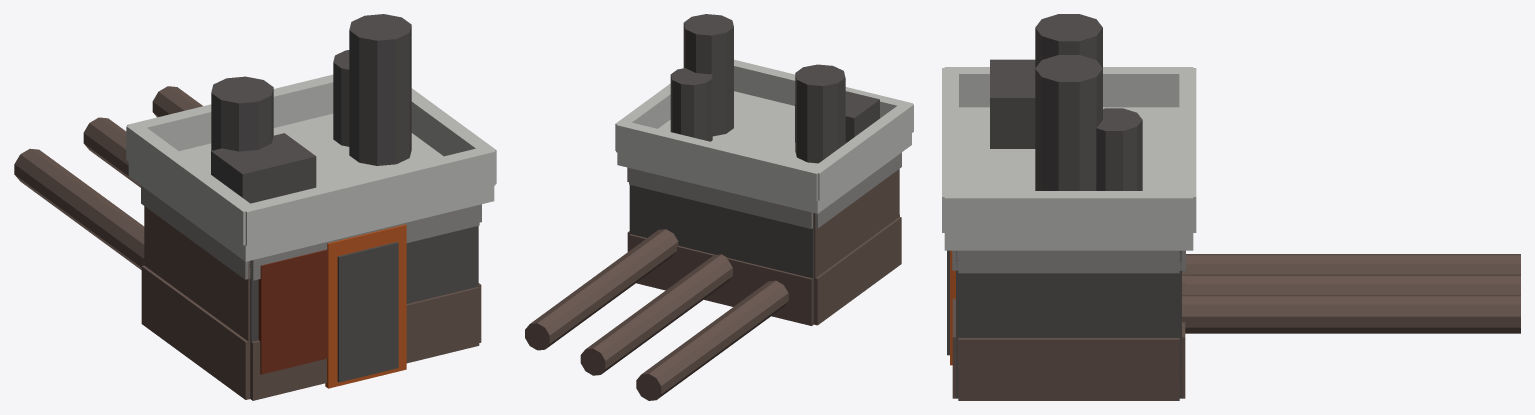
File: B_intake.glb
3 views of the same model, side by side, from view 1: azimuth 30°, elevation 25°; view 2: azimuth 150°, elevation 25°; view 3: azimuth 270°, elevation 25° (orthographic). The views are drawn at different scales.
Parts seen in each view (by area): view 1: Cube.018, Cube.017, Cylinder.003, Cube.016, Cube.012, Cube.001, Cube.006, Cube.007, Cylinder, Cube.020, Cube, Cube.022 (+9 smaller); view 2: Cube.003, Cube.017, Cube.019, Cylinder.002, Cylinder.001, Cylinder, Cube.004, Cylinder.004, Cube.007, Cube.006, Cylinder.003, Cube.020 (+6 smaller); view 3: Cube.009, Cube.010, Cylinder.002, Cube.017, Cube.021, Cylinder.003, Cylinder.001, Cylinder, Cube.011, Cube.020, Cube.022, Cylinder.005 (+4 smaller).
Boxes of the visible parts, x1,y1,x2,y2 form: Cube.018: (239,146,495,245); Cube.017: (128,113,494,261); Cylinder.003: (349,14,411,165); Cube.016: (337,242,398,382); Cube.012: (258,249,327,374); Cube.001: (250,287,479,400); Cube.006: (144,206,250,399); Cube.007: (141,265,249,399); Cylinder: (14,148,144,269); Cube.020: (126,123,249,245); Cube: (250,226,477,399); Cube.022: (211,133,316,203); Cube.003: (630,185,813,324); Cube.017: (617,91,911,213); Cube.019: (616,120,822,200); Cylinder.002: (525,229,678,350); Cylinder.001: (580,254,732,375); Cylinder: (636,280,788,400); Cube.004: (629,234,812,325); Cylinder.004: (795,64,845,163); Cube.007: (814,217,901,325); Cube.006: (814,169,899,324); Cylinder.003: (683,14,733,136); Cube.020: (814,103,913,200); Cube.009: (958,273,1179,337); Cube.010: (958,338,1179,400); Cylinder.002: (1182,295,1520,333); Cube.017: (944,107,1193,250); Cube.021: (944,191,1193,233); Cylinder.003: (1035,55,1102,190); Cylinder.001: (1182,274,1520,294); Cylinder: (1185,254,1520,274); Cube.011: (958,250,1179,273); Cube.020: (944,67,1193,107); Cube.022: (990,59,1035,148); Cylinder.005: (1096,108,1142,190).
Size of the model in its own units: 5.5 by 6.1 by 10.25.
